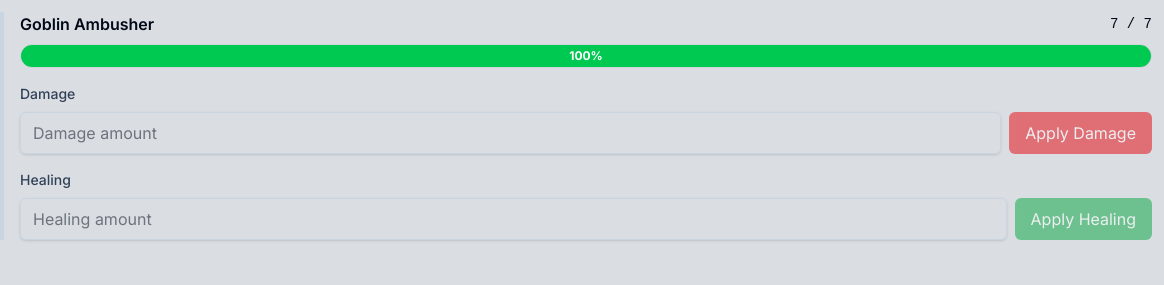
Test: HPTracker Component › Healing Input Validation › should show error for zero healing
In the number field with placeholder "Healing amount": (513, 219) x1=20 y1=198 x2=1006 y2=240, type "0"
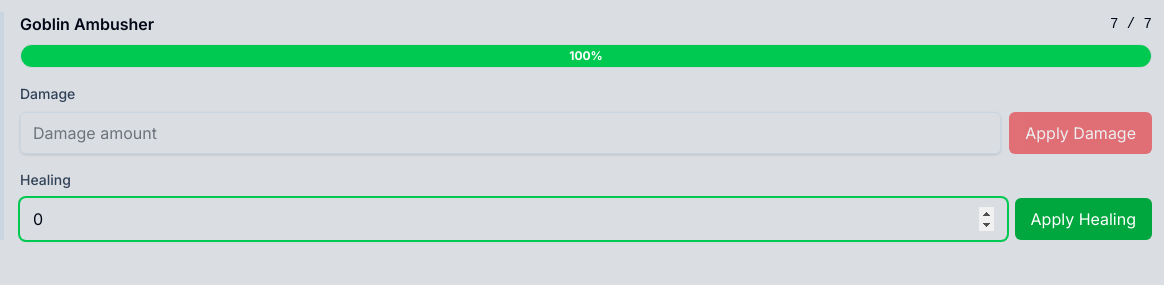
Click the button "Apply Healing": (1083, 219) x1=1014 y1=198 x2=1152 y2=240
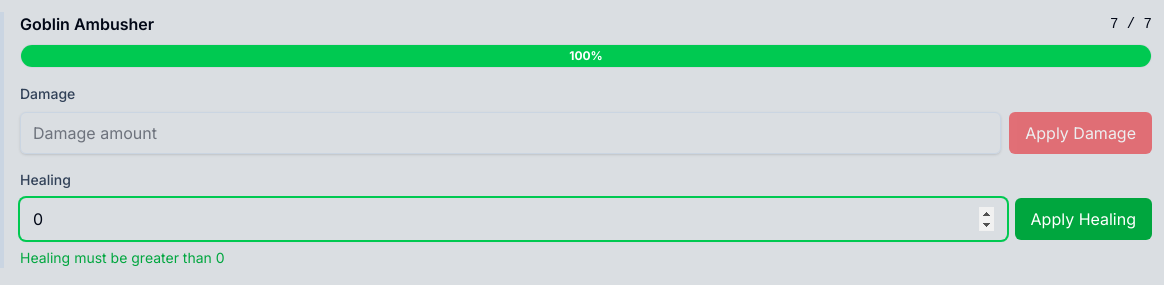
Check: the text "Healing must be greater than 0" is shown, box x1=20 y1=249 x2=225 y2=266
